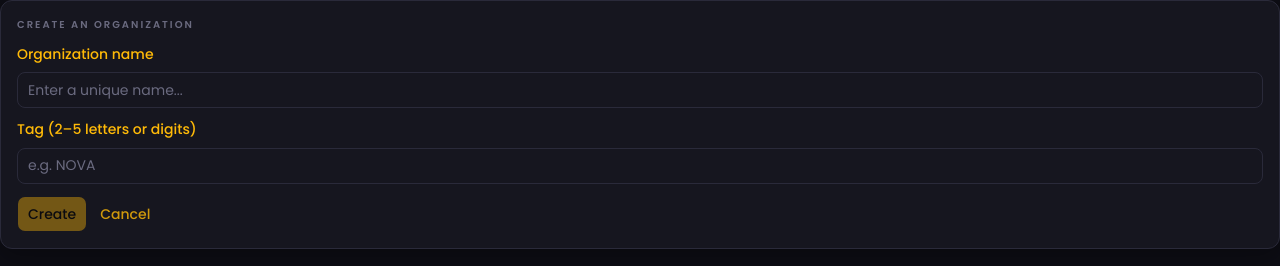
Test: CreateOrganisationForm › upper-cases the ticker and creates the organisation
The image size is (1280, 266).
In the field labelled "Organization name": (640, 90) x1=17 y1=72 x2=1263 y2=108, type "Nova Corp"
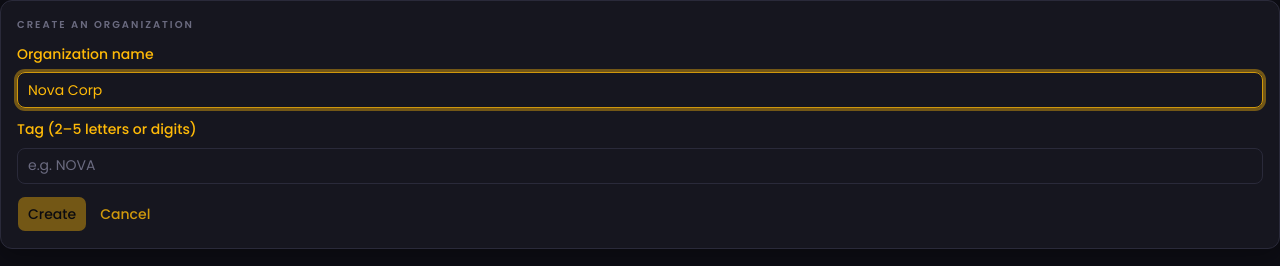
In the field labelled "Tag (2–5 letters or digits)": (640, 166) x1=17 y1=148 x2=1263 y2=184, type "nova12"
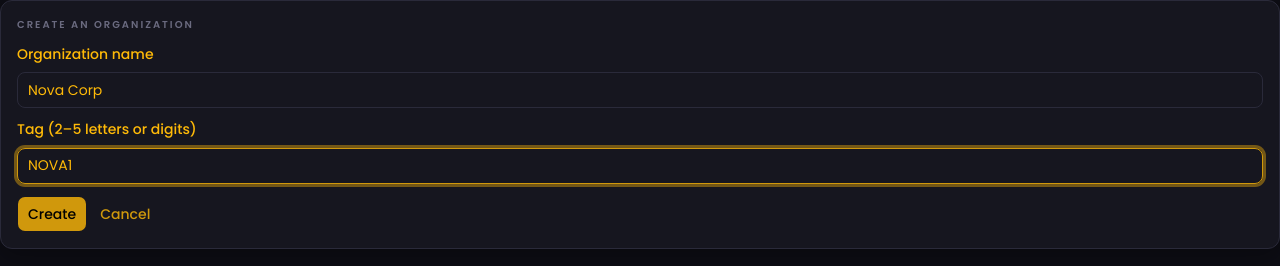
Result: the field labelled "Tag (2–5 letters or digits)" holds "NOVA1" at x1=17 y1=148 x2=1263 y2=184
Click the button "Create": (52, 214) x1=17 y1=196 x2=87 y2=232
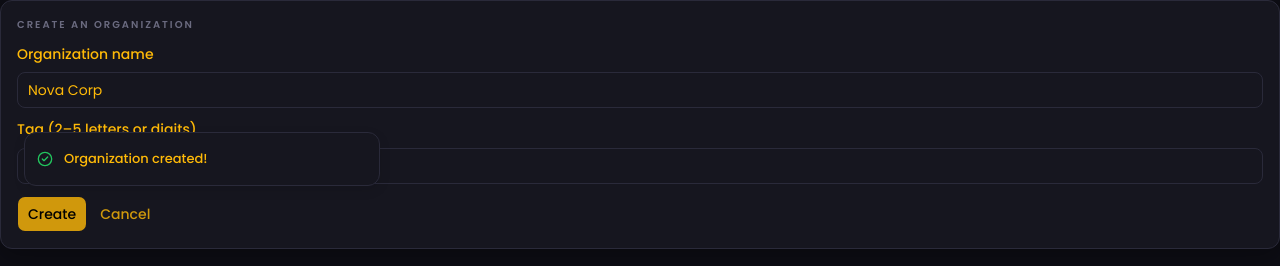
Result: the list item "Organization created!" is shown at x1=24 y1=132 x2=380 y2=186
